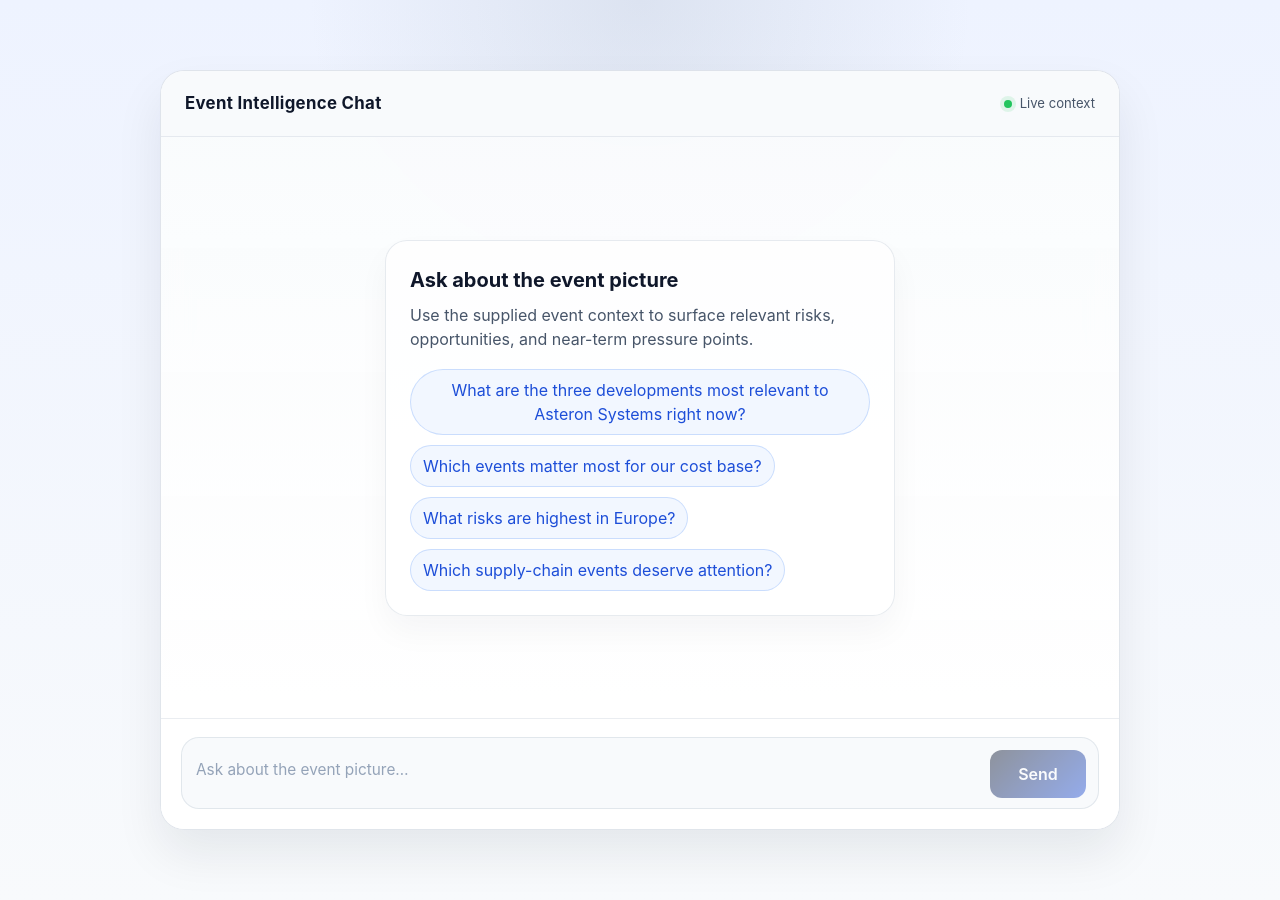
Test case: Event Intelligence Chat UI › renders the insufficient evidence response and suppresses sources when evidence is insufficient
This screenshot has width=1280, height=900.
Type "What happened?" into the text box named "message input". click: (587, 775)
box: [196,752,978,798]
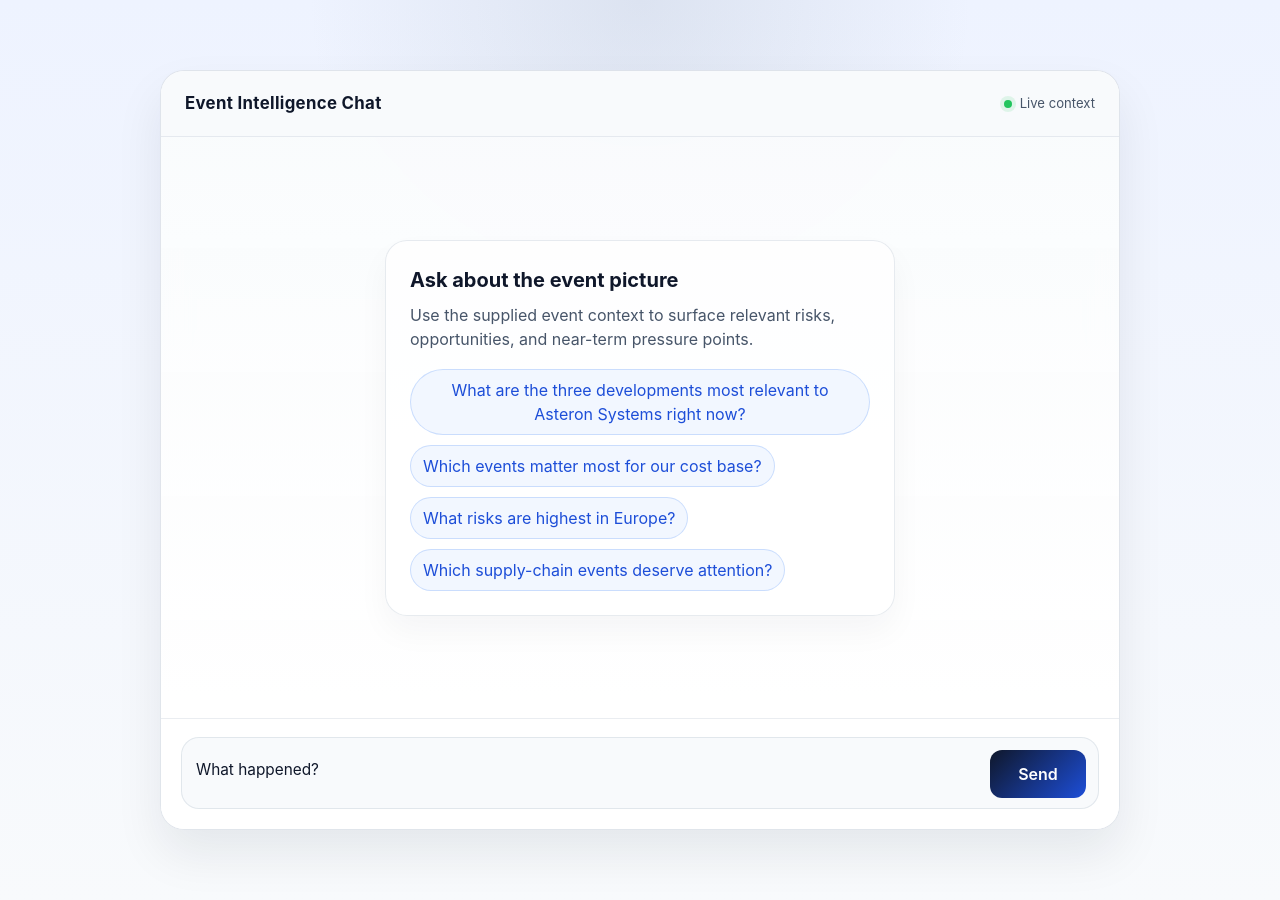
Click the button "Send". click: (1038, 774)
box: [990,750,1086,798]
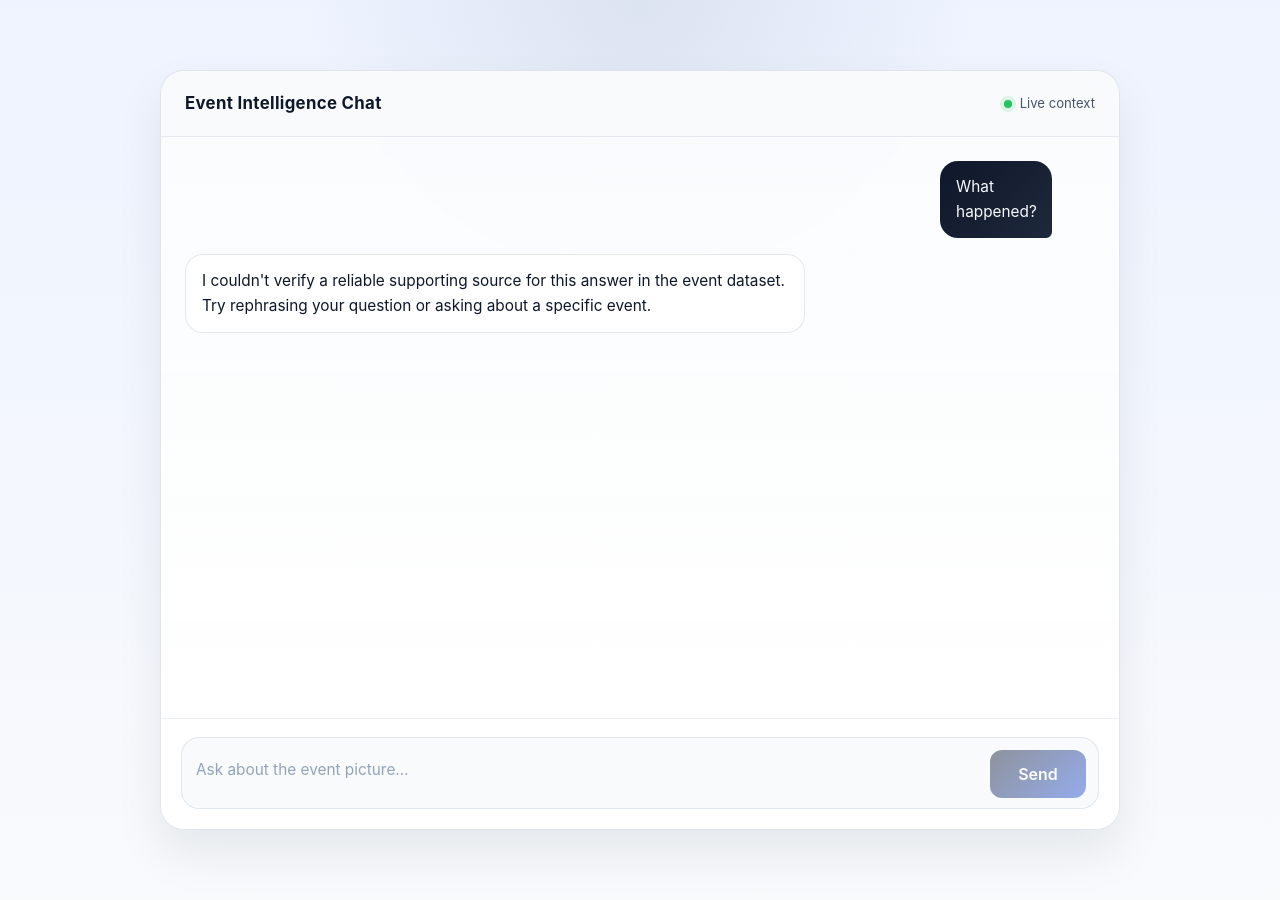
Result: the text "couldn't verify a reliable supporting source" is shown at [202,271,789,315]
